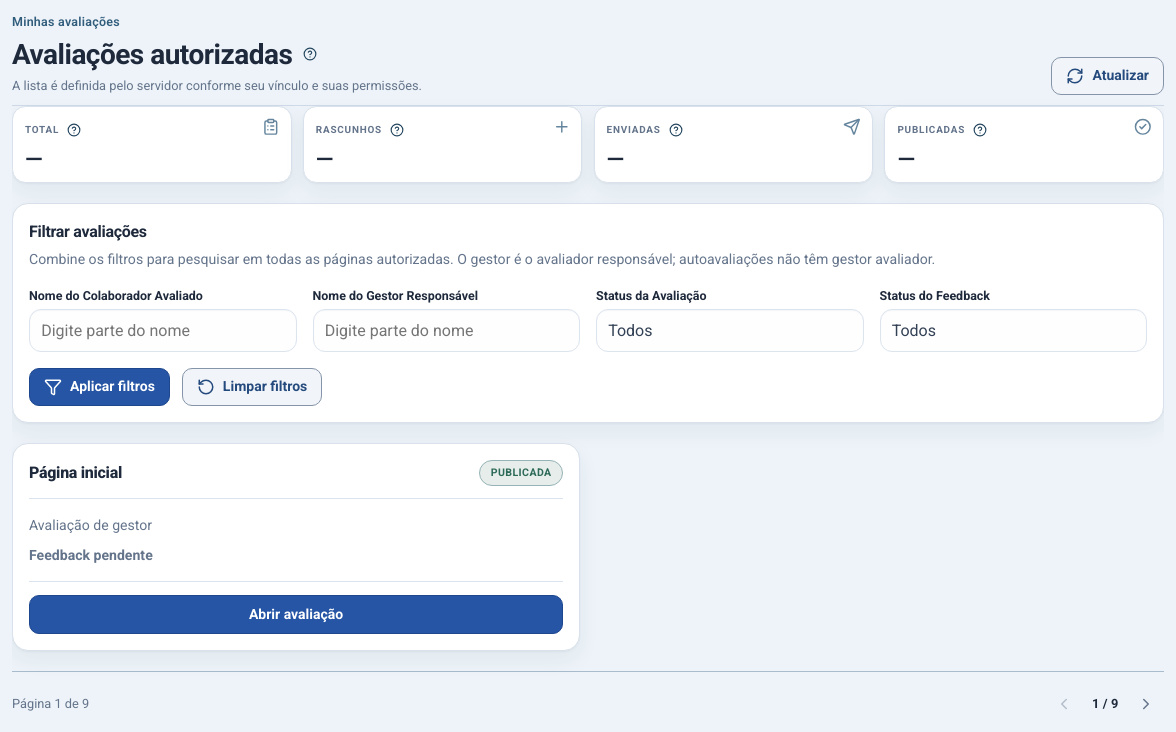
Test case: Filtros de avaliações autorizadas › mostra a página atual junto do total informado pela API
The image size is (1176, 732).
Expected: the heading "Página inicial" is shown, [29,463,122,482]
Expected: the text "Página 1 de 9" is shown, [12,694,89,714]
Click the button named "Próxima página": (1146, 704) [1128,686,1164,722]
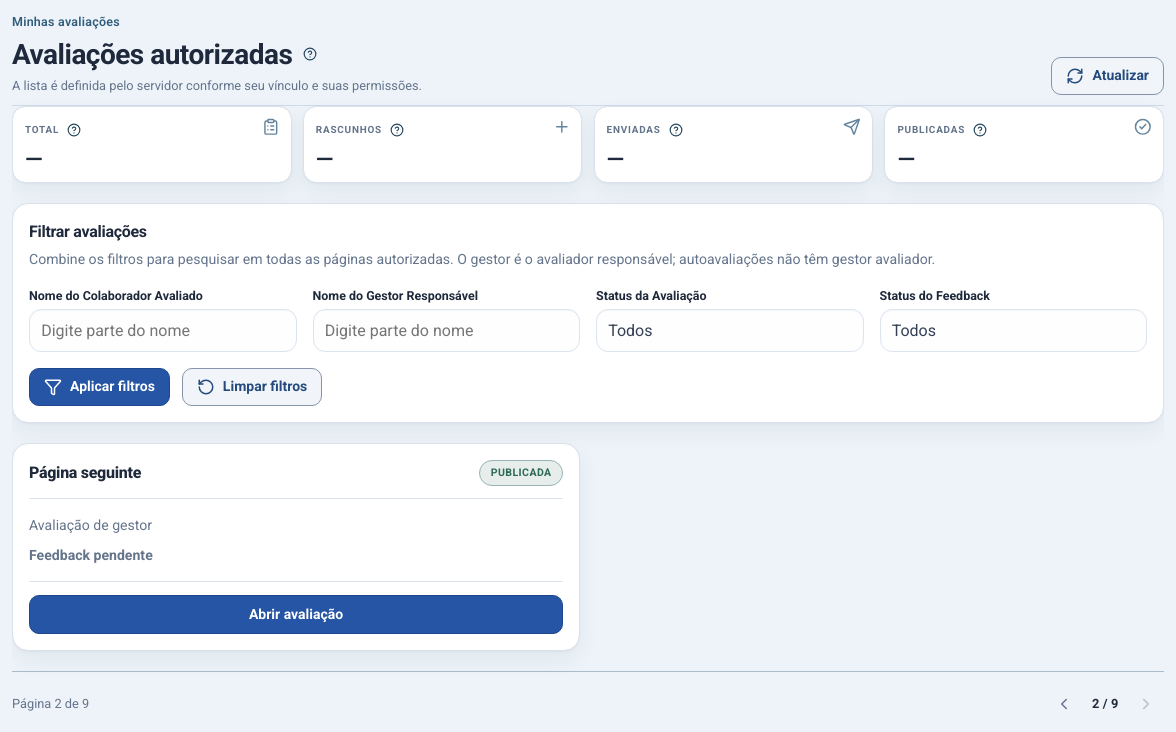
Now the heading "Página seguinte" is shown, box [29,463,141,482]
Now the text "Página 2 de 9" is shown, box [12,694,89,714]
